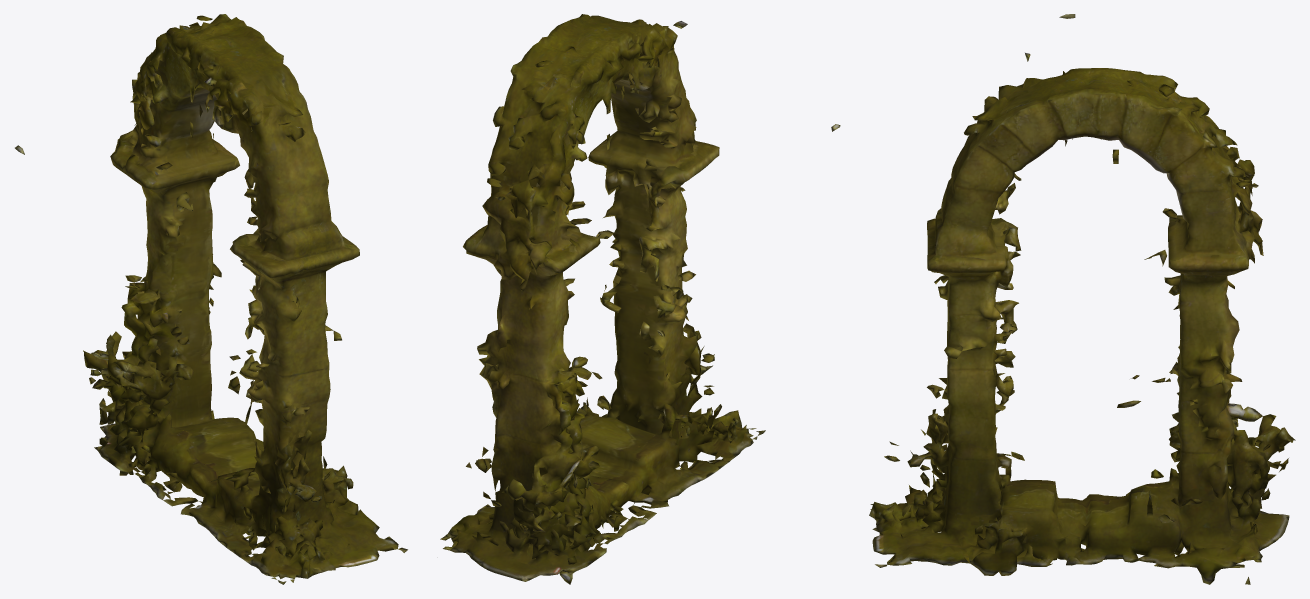
File: arco_1016011552_texture.fbx
3 renders of one model, left to right at view 1: azimuth 30°, elevation 25°; view 2: azimuth 150°, elevation 25°; view 3: azimuth 270°, elevation 25°, orthographic. The views are drawn at different scales.
Visible parts, largest first — view 1: Mesh1.0; view 2: Mesh1.0; view 3: Mesh1.0.
Boxes of the visible parts, bbox=[...] form: Mesh1.0: bbox=[15, 14, 407, 584]; Mesh1.0: bbox=[440, 14, 840, 584]; Mesh1.0: bbox=[869, 14, 1295, 584].
Bounding box in the file's own units: 129 × 195 × 157.
1 material, 1 textured.
